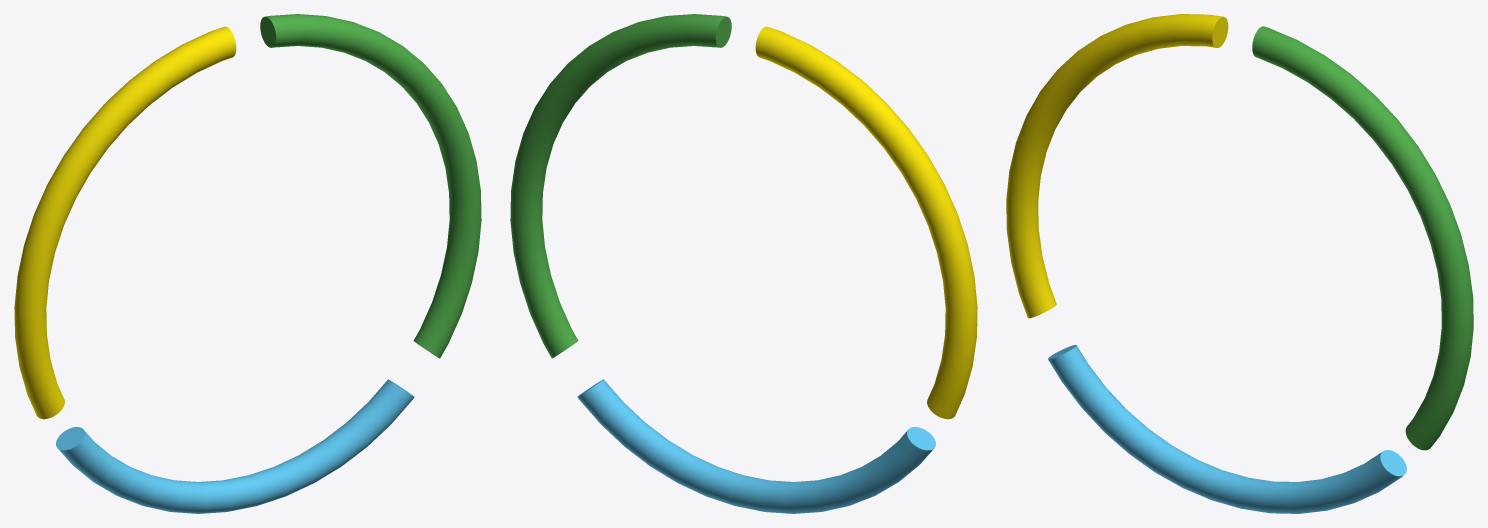
The model's file is wheel.dae.
The picture shows the model from 3 angles, left to right: view 1: azimuth 30°, elevation 25°; view 2: azimuth 150°, elevation 25°; view 3: azimuth 330°, elevation 25°; orthographic projection.
Parts seen in each view (by area): view 1: Difference2 (×3); view 2: Difference2 (×3); view 3: Difference2 (×3).
Boxes of the visible parts, bbox=[...] form: Difference2 (×3): bbox=[14, 14, 481, 513]; Difference2 (×3): bbox=[510, 14, 977, 513]; Difference2 (×3): bbox=[1006, 14, 1473, 513].
Bounding box in the file's own units: 103 × 6.13 × 103.
